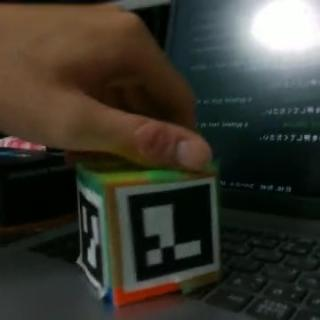armor: (116, 177, 220, 290), (76, 179, 106, 298)
robot: (73, 159, 223, 307)
